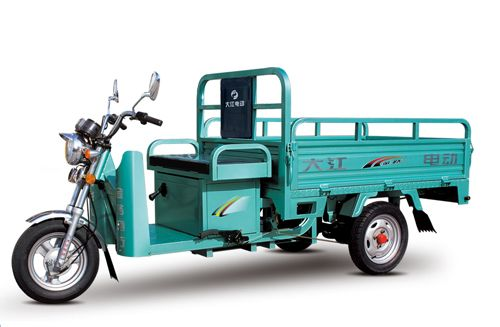empty: (5, 61, 486, 306)
